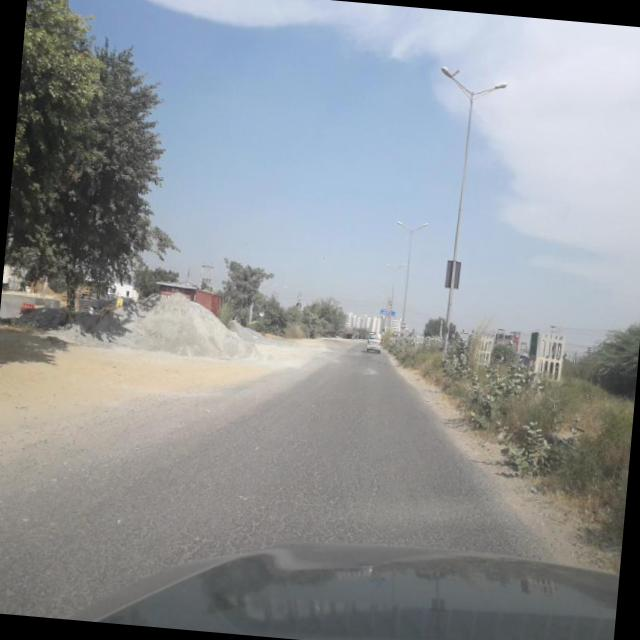crack: (33, 389, 512, 603)
